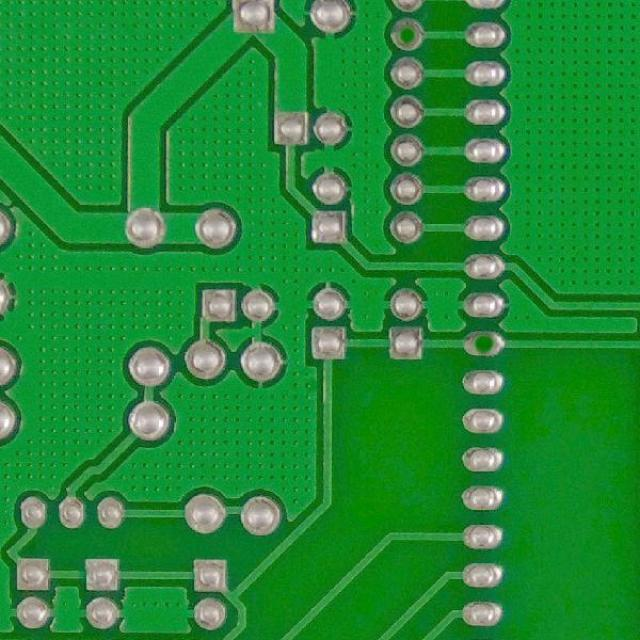Missing_Hole: (387, 17, 428, 52), (461, 328, 508, 358)
